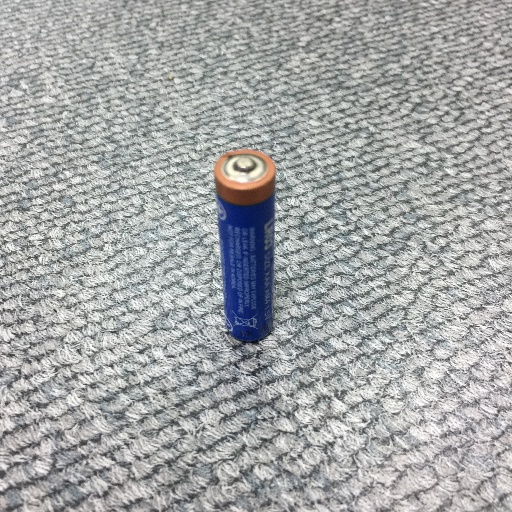Battery_0: (207, 139, 289, 349)
